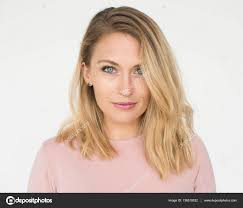white_female: (90, 36, 161, 127)
